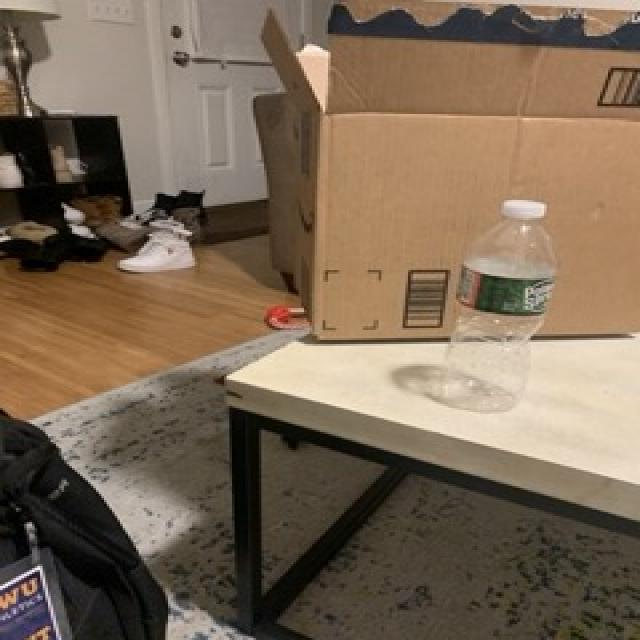water_bottle: (436, 200, 559, 412)
